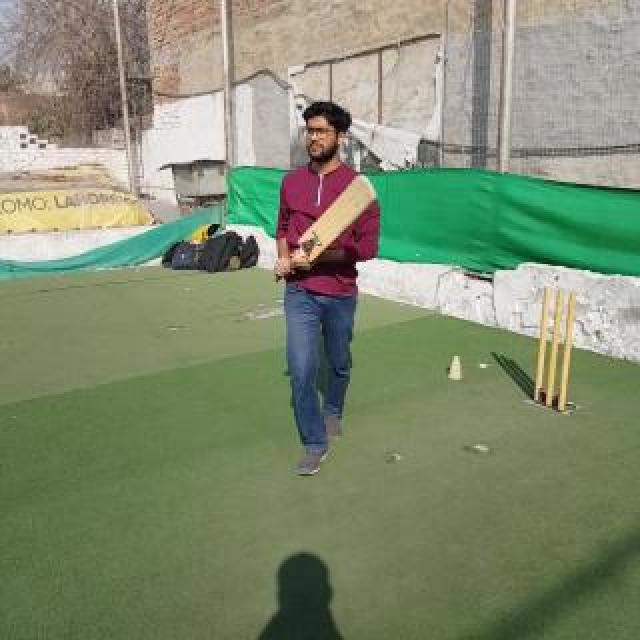bat: (272, 176, 378, 284)
